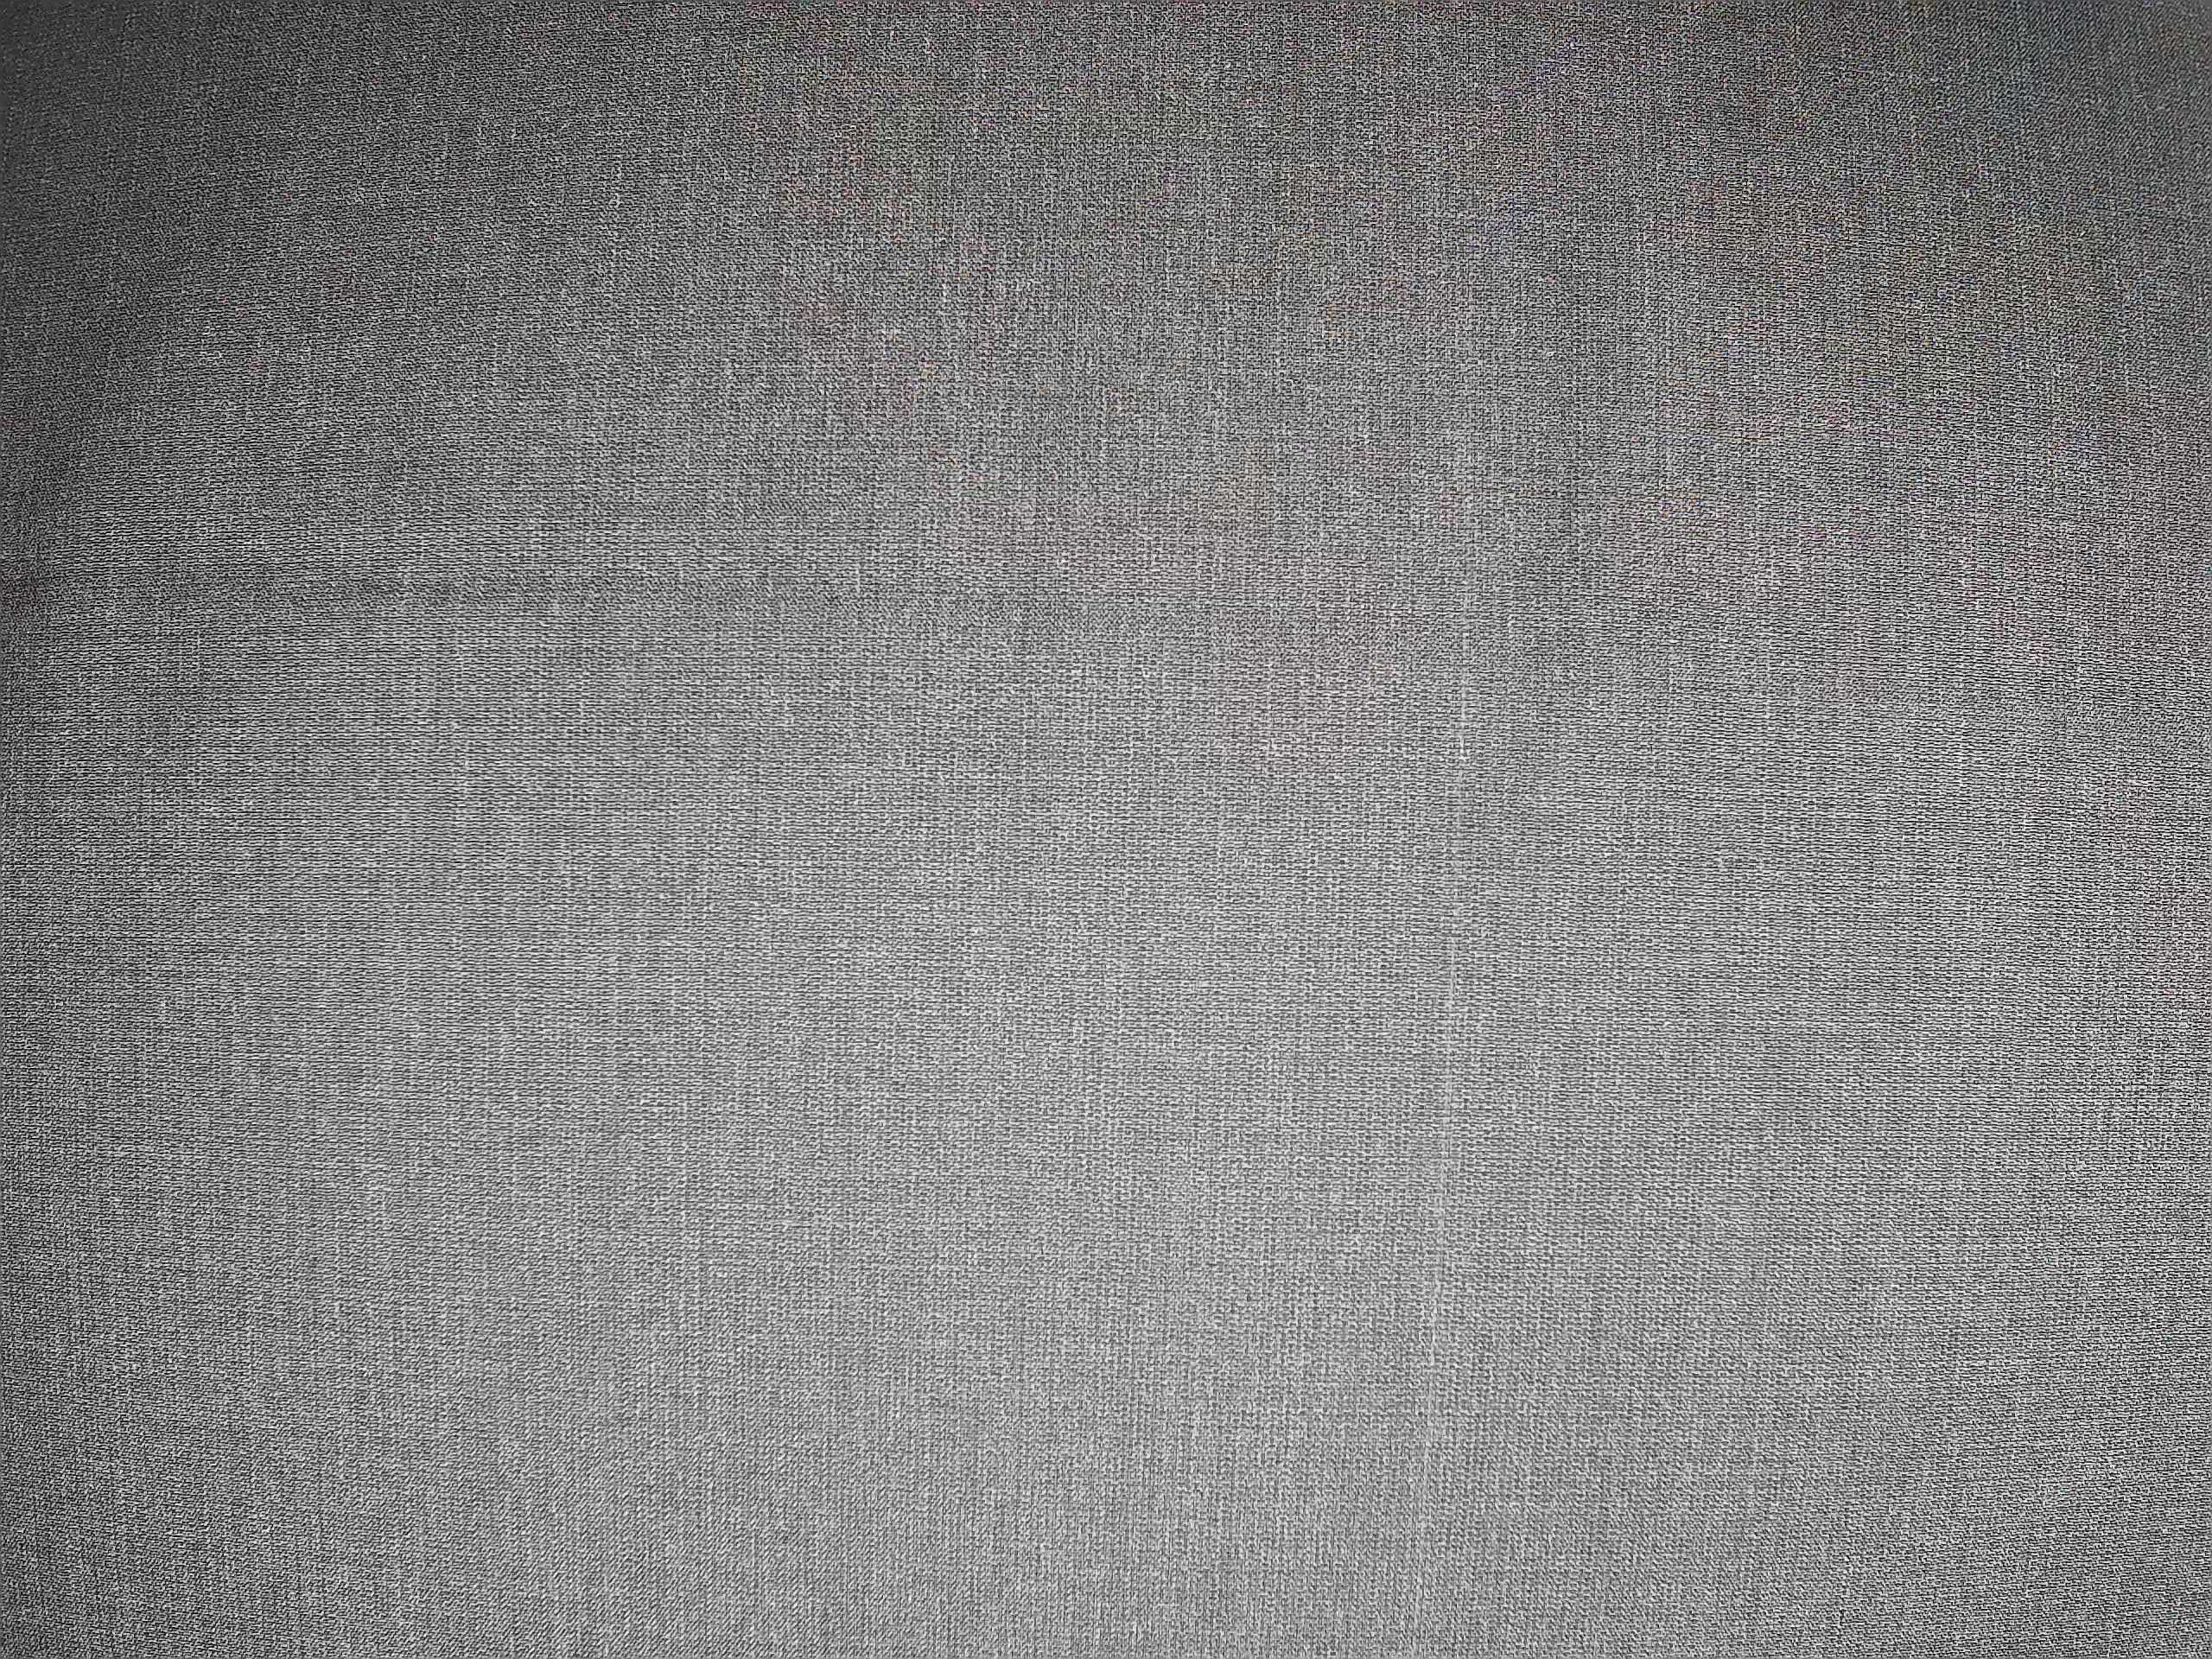lacking-warp: (1407, 584, 1489, 1652)
